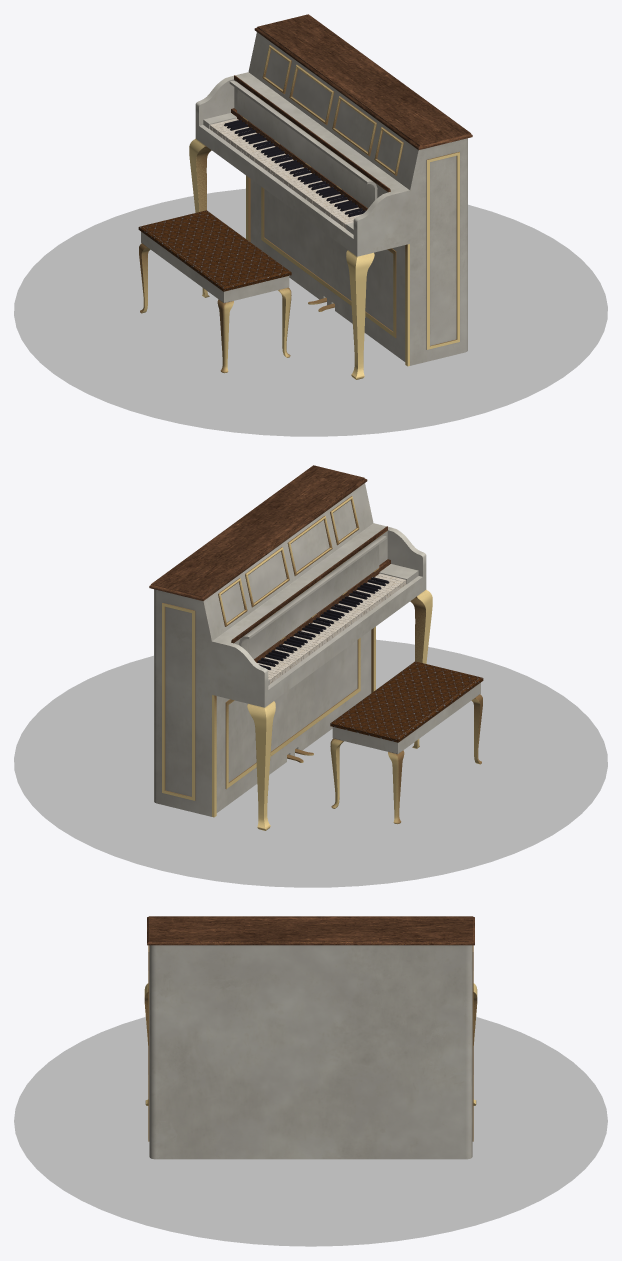
The model's file is YamahaPiano.fbx.
3 views of the same model, one above another, from view 1: azimuth 30°, elevation 25°; view 2: azimuth 150°, elevation 25°; view 3: azimuth 270°, elevation 25° (orthographic).
Parts seen in each view (by area): view 1: Circle, Main_Body, Stool_Body, Cube, Main_Body_Legs, White_Keys, Black_Keys, Side_Trimming, Stool_Legs, Under_Trimming, Trimming, Holder (+1 smaller); view 2: Circle, Main_Body, Stool_Body, Cube, Main_Body_Legs, White_Keys, Black_Keys, Side_Trimming, Stool_Legs, Under_Trimming, Trimming, Holder (+1 smaller); view 3: Main_Body, Circle, Side_Trimming, Main_Body_Legs.
Part boxes in pixels (left/top/right/bottom): Circle: left=14, top=188, right=607, bottom=436; Main_Body: left=195, top=14, right=472, bottom=365; Stool_Body: left=138, top=210, right=291, bottom=303; Cube: left=229, top=81, right=377, bottom=208; Main_Body_Legs: left=189, top=138, right=374, bottom=379; White_Keys: left=212, top=124, right=362, bottom=224; Black_Keys: left=224, top=119, right=365, bottom=217; Side_Trimming: left=426, top=152, right=459, bottom=349; Stool_Legs: left=139, top=243, right=291, bottom=373; Under_Trimming: left=261, top=187, right=396, bottom=338; Trimming: left=246, top=175, right=409, bottom=366; Holder: left=234, top=75, right=390, bottom=192; Circle: left=14, top=639, right=607, bottom=887; Main_Body: left=149, top=465, right=426, bottom=816; Stool_Body: left=330, top=661, right=483, bottom=754; Cube: left=239, top=536, right=386, bottom=659; Main_Body_Legs: left=247, top=589, right=432, bottom=830; White_Keys: left=257, top=581, right=400, bottom=682; Black_Keys: left=257, top=577, right=389, bottom=669; Side_Trimming: left=162, top=603, right=195, bottom=800; Stool_Legs: left=330, top=694, right=482, bottom=824; Under_Trimming: left=225, top=638, right=360, bottom=789; Trimming: left=212, top=626, right=375, bottom=817; Holder: left=231, top=526, right=387, bottom=643; Main_Body: left=147, top=916, right=474, bottom=1159; Circle: left=14, top=1017, right=607, bottom=1246; Side_Trimming: left=148, top=945, right=473, bottom=1141; Main_Body_Legs: left=144, top=983, right=477, bottom=1105.
Size of the model in its own units: 336 by 136 by 336.
